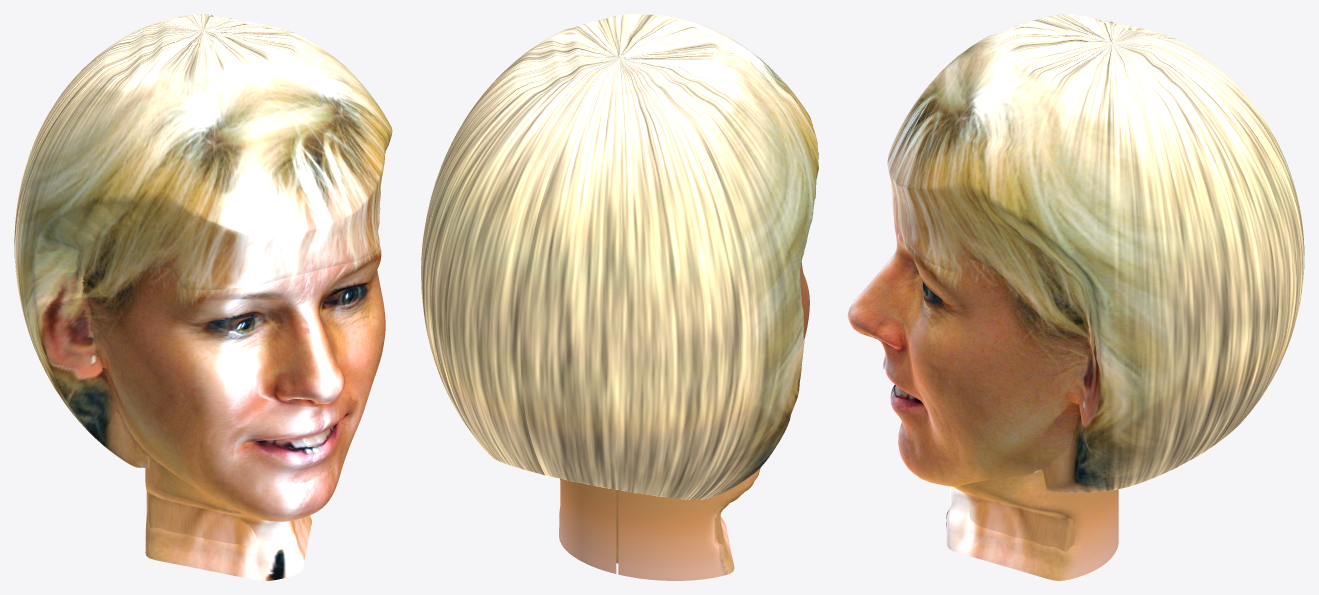
3 views of the same model, side by side, from view 1: azimuth 30°, elevation 25°; view 2: azimuth 150°, elevation 25°; view 3: azimuth 270°, elevation 25° (orthographic). The views are drawn at different scales.
Visible parts, largest first — view 1: head, face, neck; view 2: head, neck; view 3: head, face, neck.
Part boxes in pixels (x1,y1,x2,y2): head: (14, 14, 392, 545); face: (82, 244, 385, 521); neck: (145, 455, 311, 580); head: (421, 14, 818, 563); neck: (559, 467, 760, 580); head: (887, 14, 1304, 551); face: (847, 218, 1089, 487); neck: (946, 470, 1118, 580).
Size of the model in its own units: 0.2817 by 0.3856 by 0.3172.
3 materials, 3 textured.
